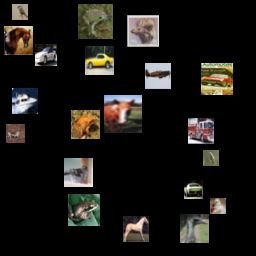airplane: (145, 63, 171, 89)
automobile: (201, 63, 233, 95), (85, 46, 114, 75), (35, 44, 57, 66), (184, 180, 203, 199)
bird: (127, 15, 159, 47), (180, 214, 209, 243), (64, 158, 93, 187), (12, 4, 28, 20), (203, 150, 219, 166)
deer: (6, 124, 25, 143)
dog: (210, 198, 226, 214)
frog: (78, 4, 113, 39), (68, 194, 100, 226), (71, 110, 100, 139)
ship: (12, 88, 38, 114)
